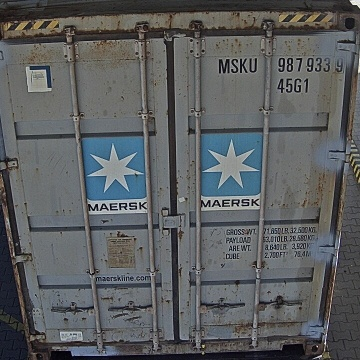serial_id: (218, 56, 345, 73)
